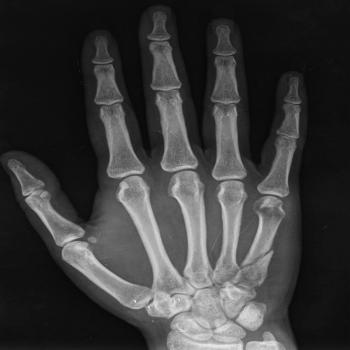Fracture: (240, 246, 282, 272)
